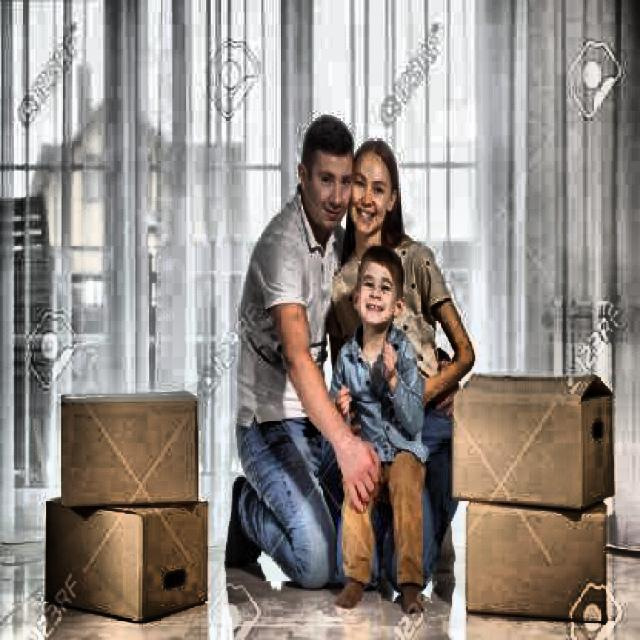Cardbox: (448, 361, 626, 516), (32, 485, 217, 626), (456, 480, 614, 626), (52, 390, 204, 509)
